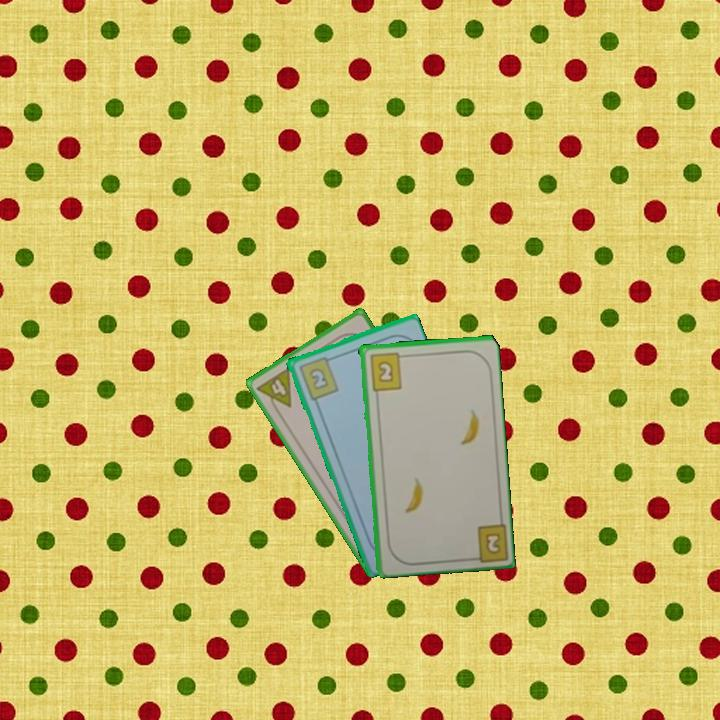2b: (295, 353, 341, 402), (464, 519, 509, 563), (366, 349, 408, 393)
4p: (253, 364, 294, 417)
